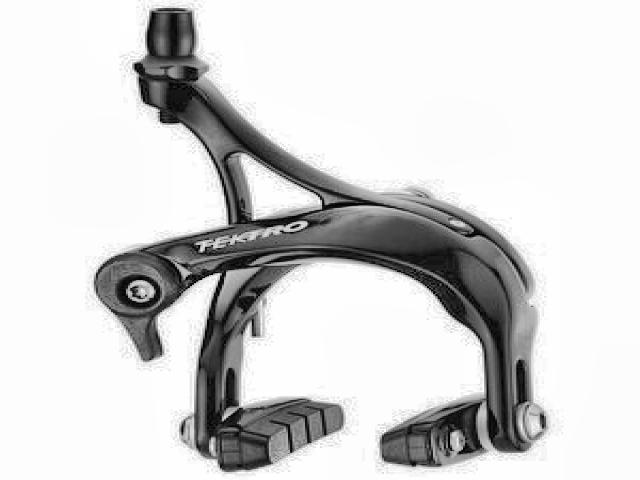rim_brake: (92, 5, 552, 474)
